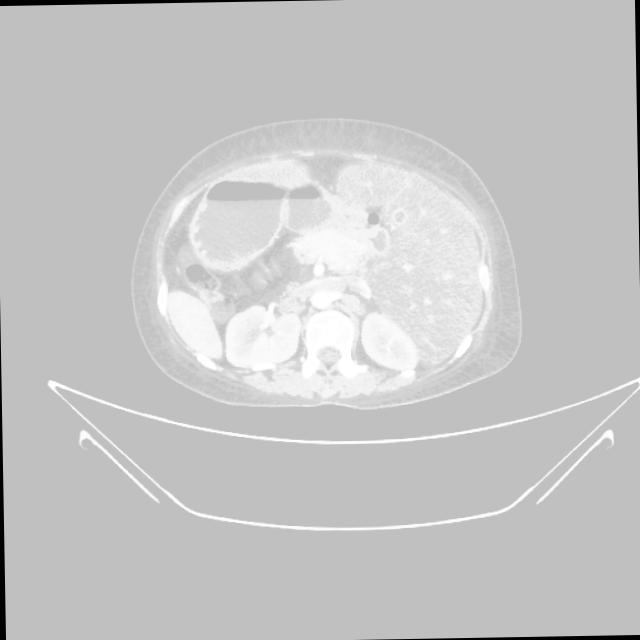NORMAL: (113, 89, 556, 407)
